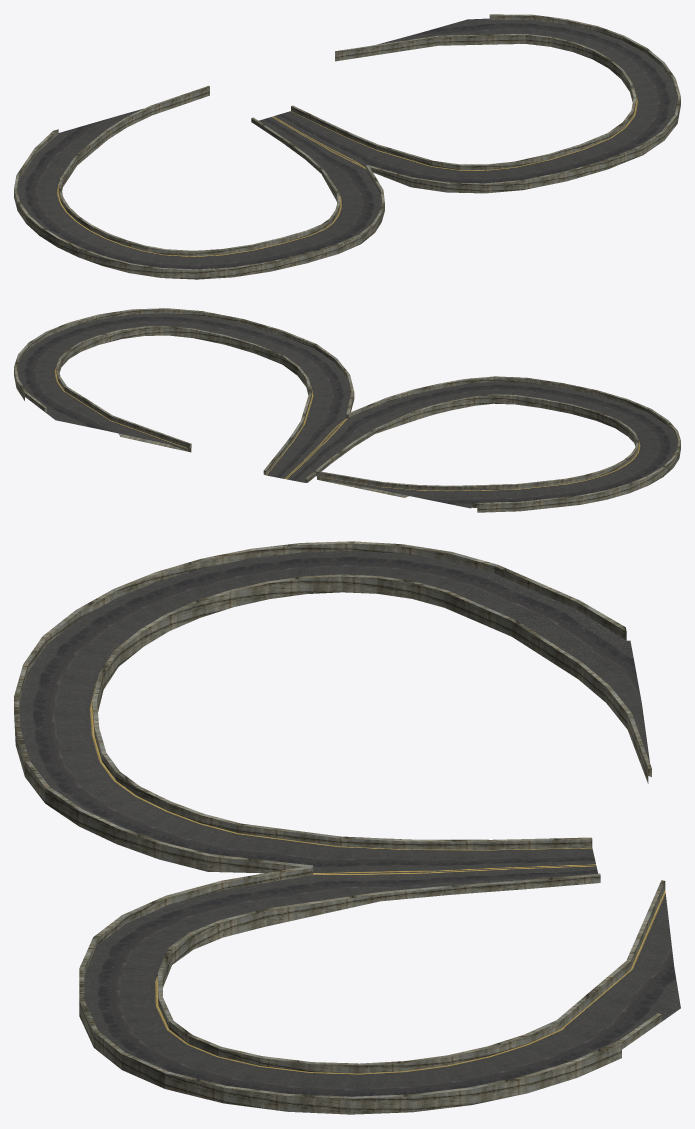
File: cunte_roads24.obj
3 views of the same model, one above another, from view 1: azimuth 30°, elevation 25°; view 2: azimuth 150°, elevation 25°; view 3: azimuth 270°, elevation 25° (orthographic). The views are drawn at different scales.
Visible parts, largest first — view 1: cunte_roads24; view 2: cunte_roads24; view 3: cunte_roads24.
Part boxes in pixels (left/top/right/bottom): cunte_roads24: left=14, top=14, right=680, bottom=279; cunte_roads24: left=14, top=308, right=680, bottom=512; cunte_roads24: left=14, top=541, right=680, bottom=1114.
Bounding box in the file's own units: 161 × 8.2 × 82.16.
Materials: 2 (2 with a texture image).
